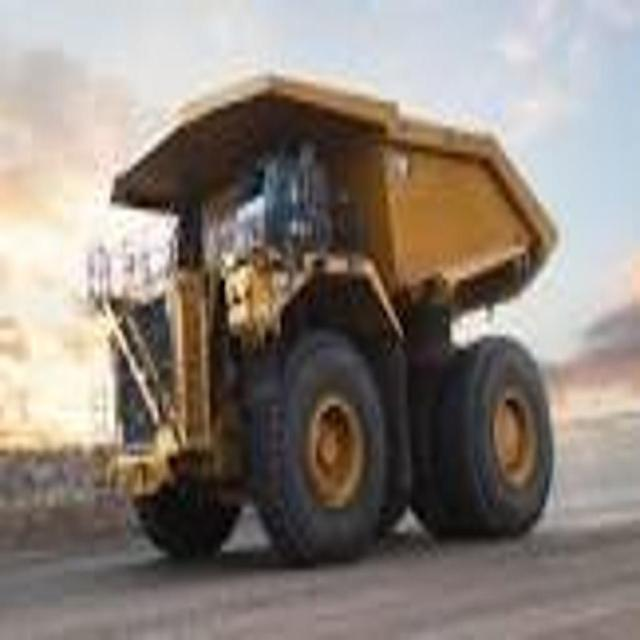dump_truck: (104, 44, 562, 600)
